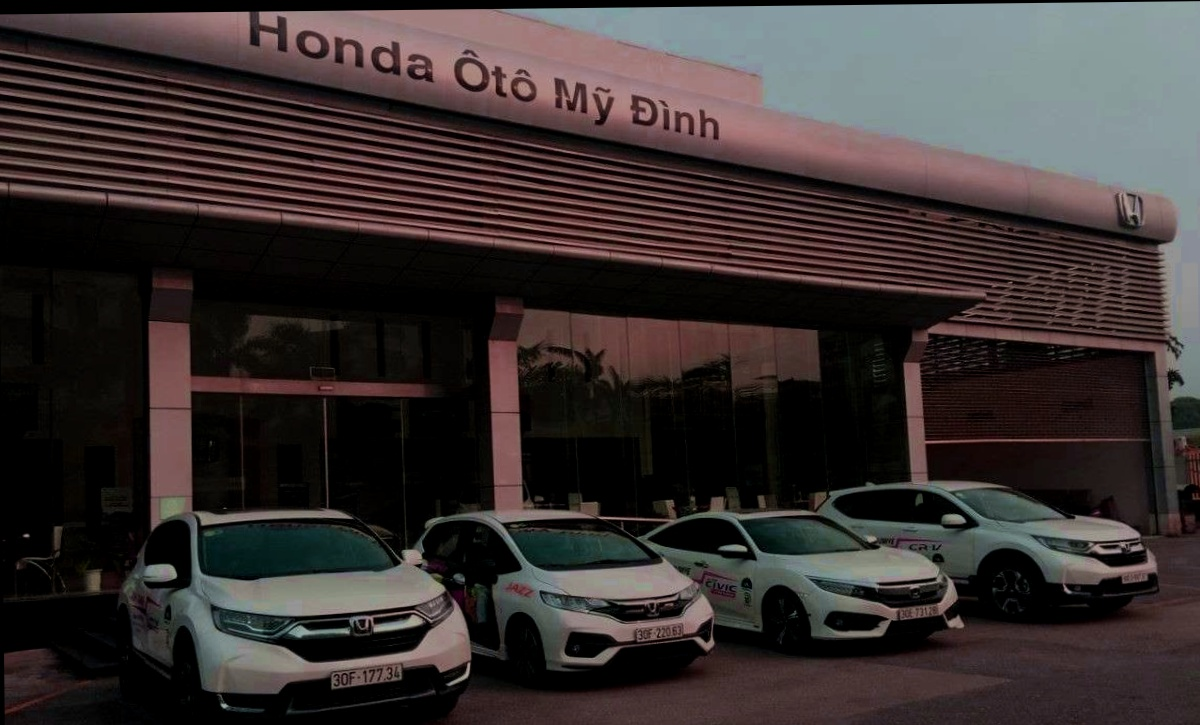Bien-so: (320, 647, 400, 685), (616, 592, 676, 623), (869, 557, 913, 578), (1081, 504, 1114, 527)
